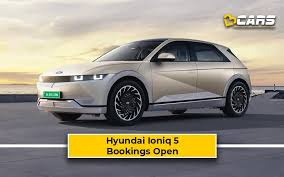Honda Ioniq: (23, 35, 256, 125)
